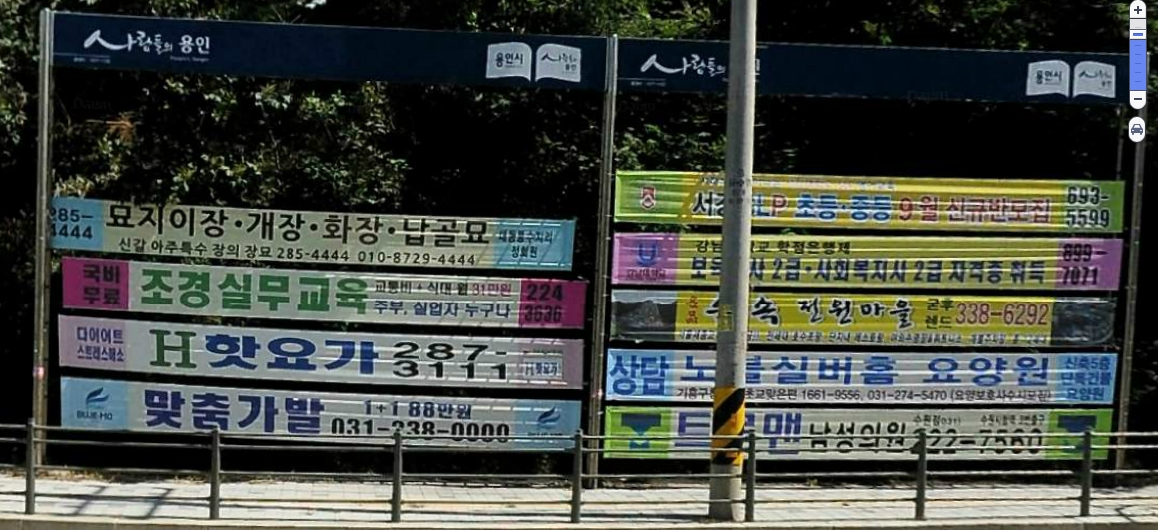banner: (26, 170, 600, 277), (601, 132, 1141, 234), (23, 239, 610, 332), (27, 303, 593, 394), (19, 362, 594, 449), (589, 267, 1146, 353), (592, 219, 1135, 304), (591, 333, 1132, 409), (591, 395, 1138, 468)
